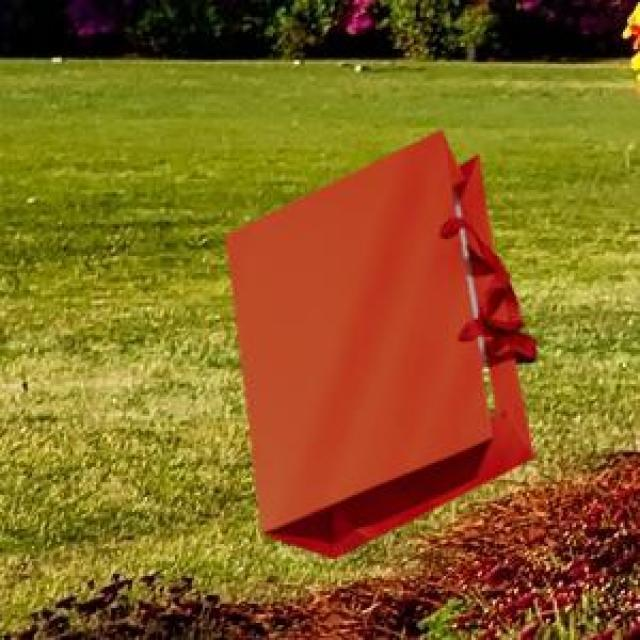paper: (222, 128, 531, 555)
